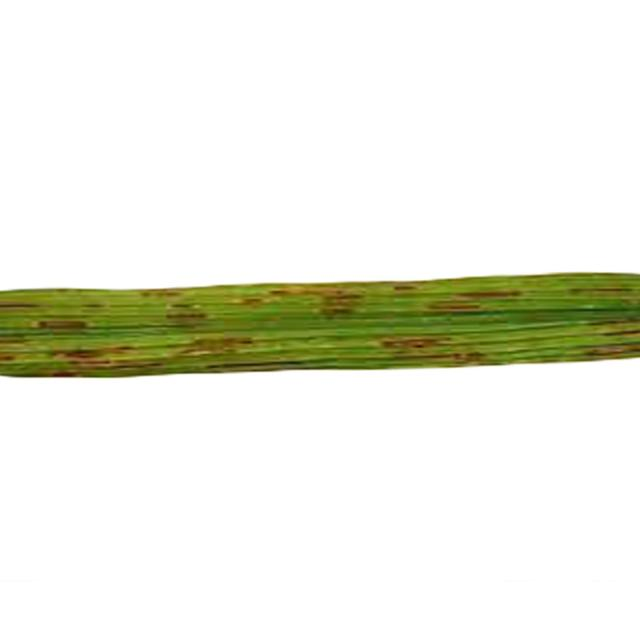Brown spot: (0, 271, 640, 382)
